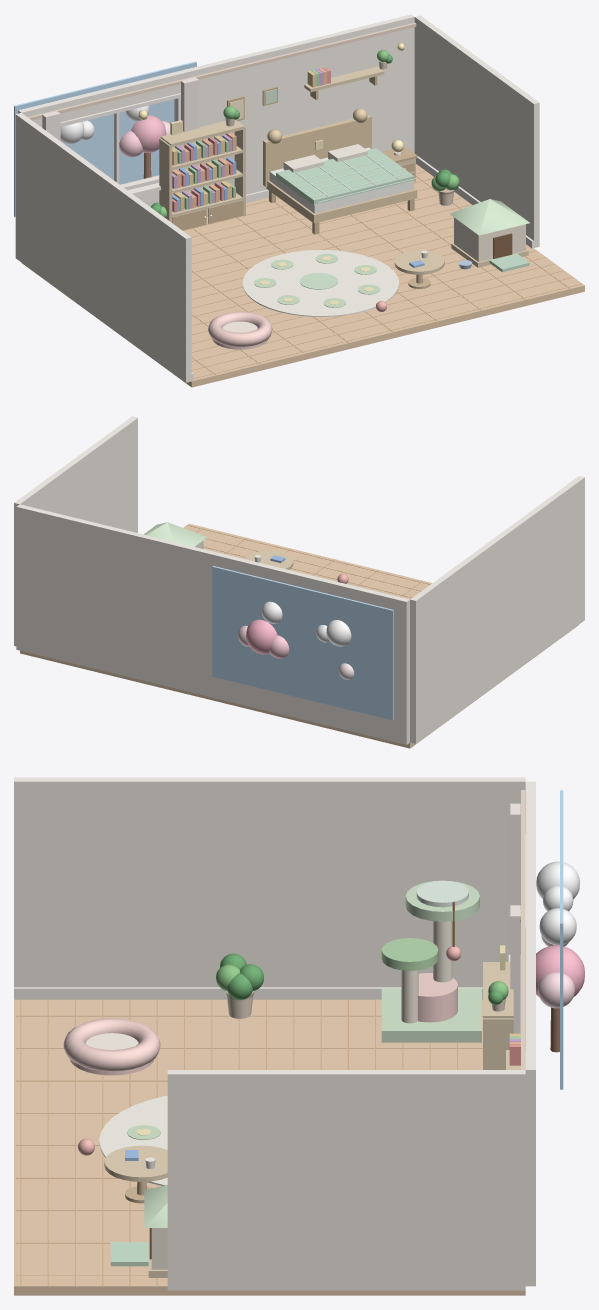
File: room.gltf
3 renders of one model, top to bottom at view 1: azimuth 30°, elevation 25°; view 2: azimuth 150°, elevation 25°; view 3: azimuth 270°, elevation 25°, orthographic. The views are drawn at different scales.
Parts seen in each view (by area): view 1: floor, wall-left, wall-back-r, wall-right, rug-base, sky, quilt, headboard, wall-back-t, trim-back-2, ch-roof, basket-ring (+16 smaller); view 2: wall-back-r, wall-left, sky, wall-right, floor, wall-back-l, wall-back-b, wall-back-t, ch-roof, sakura-a, cloud-1, table-top; view 3: wall-left, wall-right, floor, trim-left, wall-back-r, tree-base, basket-ring, rug-base, table-top, tree-cave, tree-platform-2, tree-platform (+19 smaller).
Part boxes in pixels (<box>): floor: <box>22,164,584,387</box>; wall-left: <box>15,113,191,382</box>; wall-back-r: <box>176,14,414,194</box>; wall-right: <box>414,15,539,247</box>; rug-base: <box>242,250,398,316</box>; sky: <box>14,61,196,216</box>; quilt: <box>276,148,414,205</box>; headboard: <box>263,115,371,186</box>; wall-back-t: <box>53,72,178,121</box>; trim-back-2: <box>28,22,416,120</box>; ch-roof: <box>450,199,529,235</box>; basket-ring: <box>208,311,272,346</box>; wall-back-r: <box>16,504,253,706</box>; wall-left: <box>410,476,584,743</box>; sky: <box>212,566,393,720</box>; wall-right: <box>14,416,137,646</box>; floor: <box>20,523,578,748</box>; wall-back-l: <box>372,591,409,744</box>; wall-back-b: <box>250,686,372,736</box>; wall-back-t: <box>250,561,375,604</box>; ch-roof: <box>143,522,207,546</box>; sakura-a: <box>246,619,277,654</box>; cloud-1: <box>326,620,351,646</box>; table-top: <box>244,551,293,569</box>; wall-left: <box>14,777,525,987</box>; wall-right: <box>167,1070,525,1290</box>; floor: <box>14,999,525,1295</box>; trim-left: <box>14,987,482,999</box>; wall-back-r: <box>525,897,535,1286</box>; tree-base: <box>381,988,481,1042</box>; basket-ring: <box>63,1018,160,1071</box>; rug-base: <box>99,1095,167,1185</box>; table-top: <box>104,1145,167,1181</box>; tree-cave: <box>418,973,457,1022</box>; tree-platform-2: <box>381,938,438,970</box>; tree-platform: <box>405,880,479,921</box>.
Bounding box in the file's own units: 8.24 × 2.92 × 6.69.
